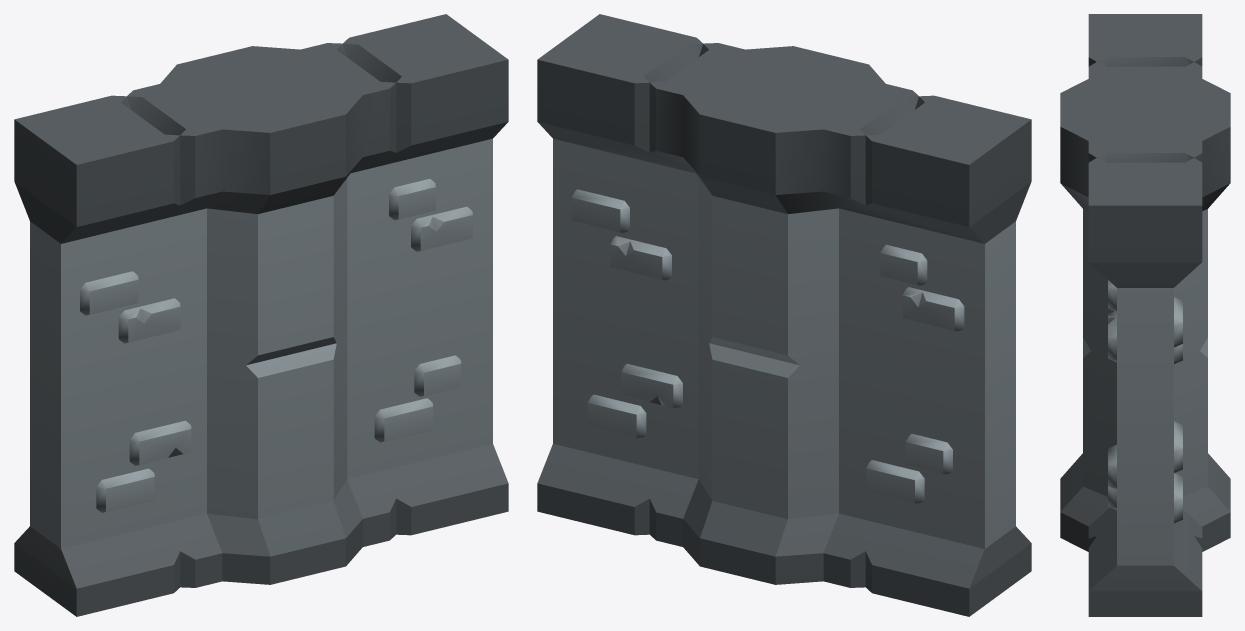
Rendered from wall_pil.fbx.
3 renders of one model, left to right at view 1: azimuth 30°, elevation 25°; view 2: azimuth 150°, elevation 25°; view 3: azimuth 270°, elevation 25°, orthographic. The views are drawn at different scales.
Visible parts, largest first — view 1: wall_pillar; view 2: wall_pillar; view 3: wall_pillar.
Part boxes in pixels (bbox=[...]): wall_pillar: bbox=[14, 14, 508, 616]; wall_pillar: bbox=[537, 14, 1031, 616]; wall_pillar: bbox=[1060, 14, 1230, 616].
Size of the model in its own units: 400 by 400 by 150.
Materials: 1 (1 with a texture image).
